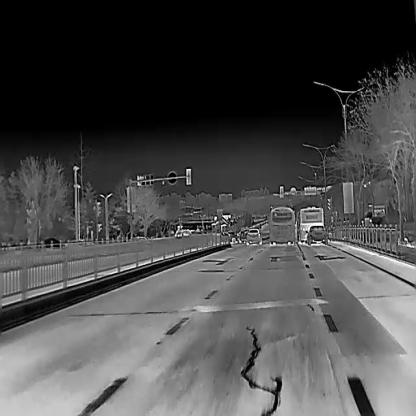bus: (296, 207, 323, 244), (269, 210, 295, 246)
car: (306, 225, 328, 245), (245, 228, 261, 245)
